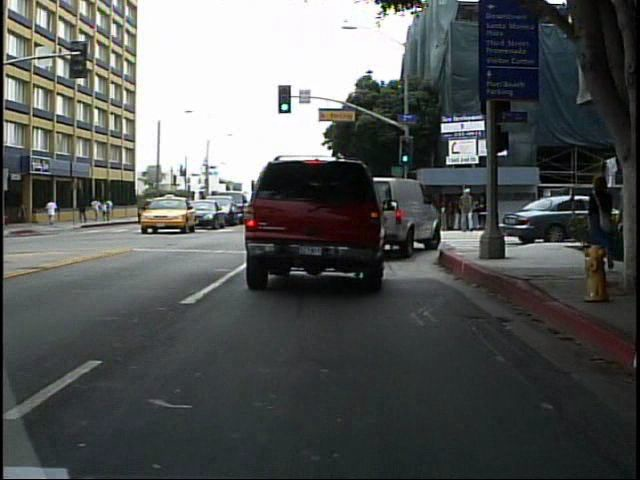person: (586, 168, 625, 272), (458, 184, 477, 233), (46, 195, 60, 228)
